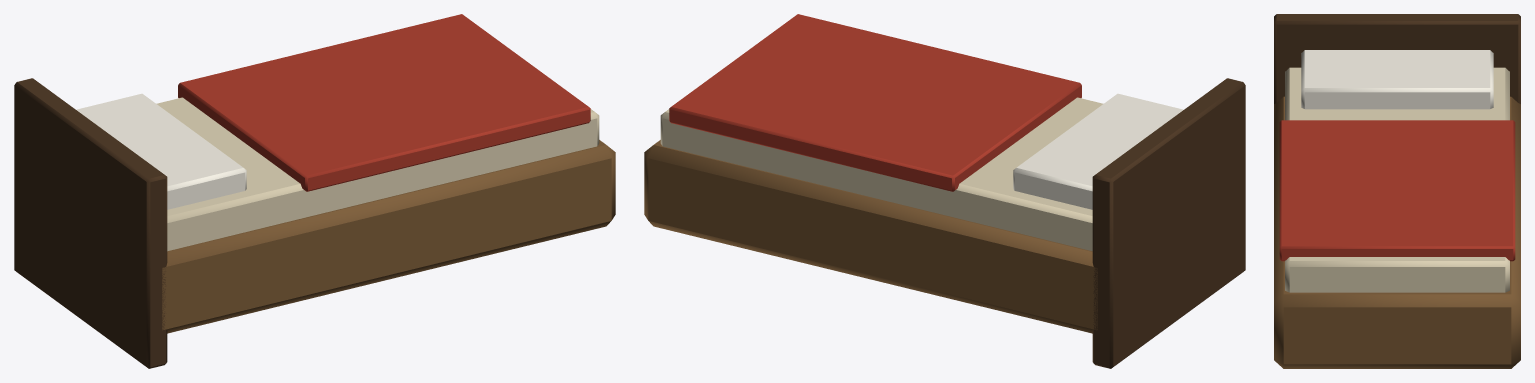
File: bed.glb
3 views of the same model, side by side, from view 1: azimuth 30°, elevation 25°; view 2: azimuth 150°, elevation 25°; view 3: azimuth 270°, elevation 25° (orthographic). The views are drawn at different scales.
Visible parts, largest first — view 1: building; view 2: building; view 3: building.
Boxes of the visible parts, x1,y1,x2,y2 form: building: (14, 14, 615, 368); building: (644, 14, 1245, 368); building: (1274, 14, 1520, 368).
Bounding box in the file's own units: 1.82 × 0.7 × 0.9.
